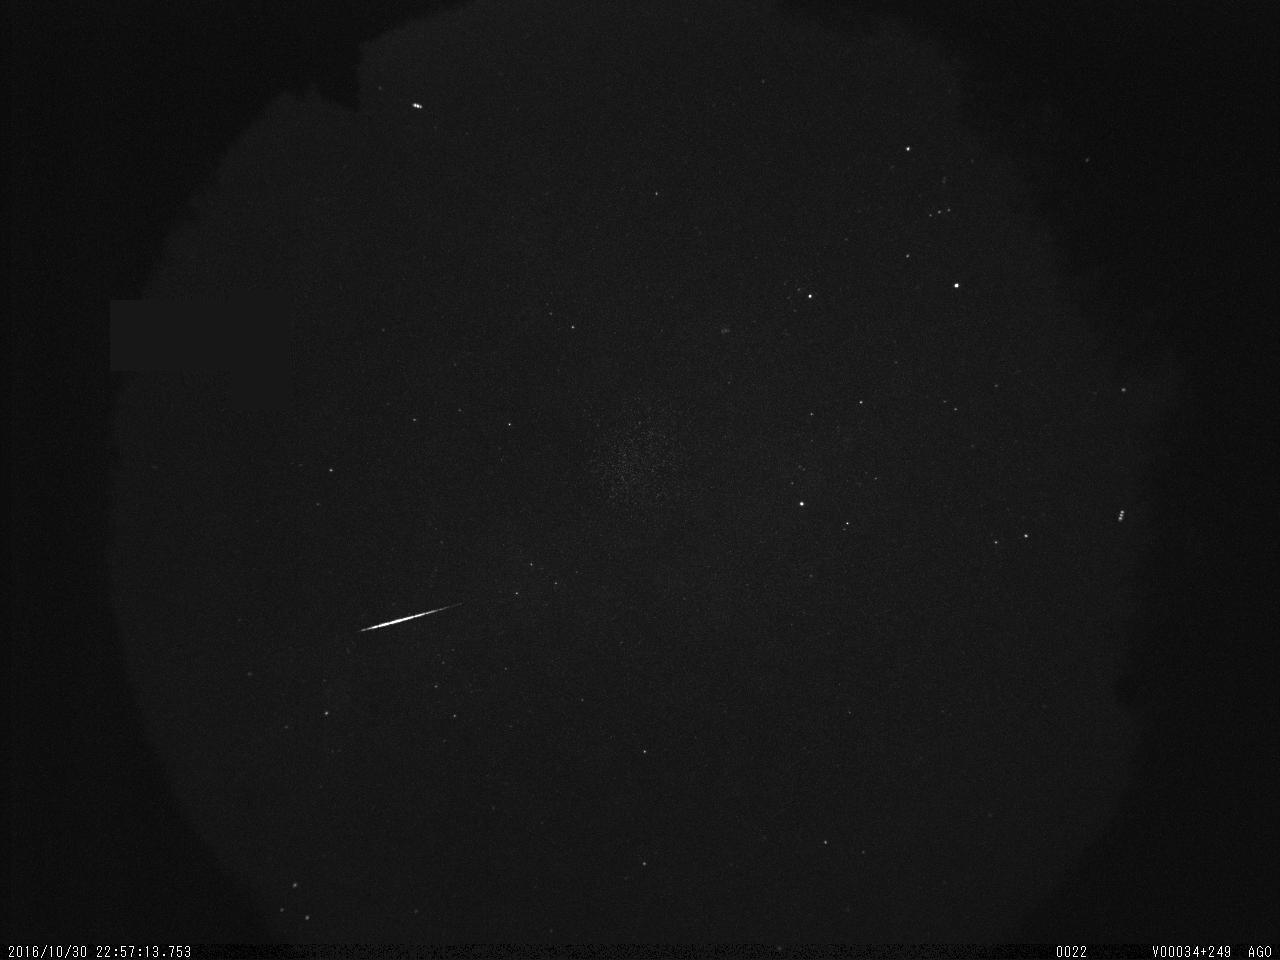meteor: (348, 581, 481, 646)
